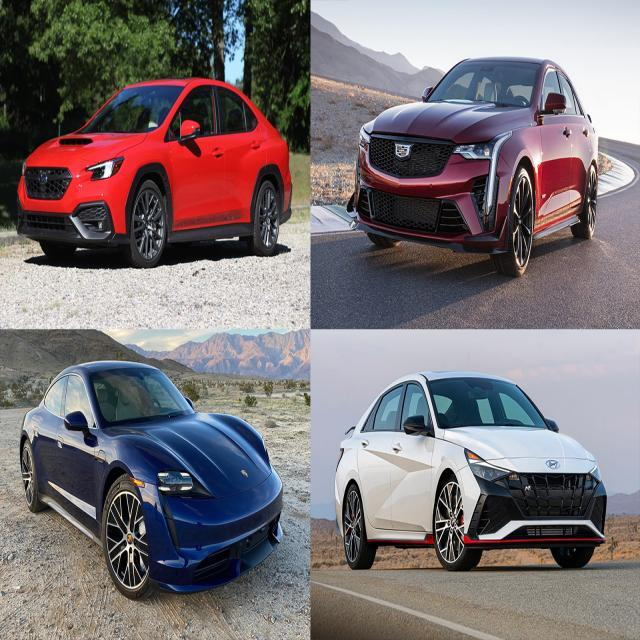pickup: (18, 358, 284, 600), (346, 54, 600, 277), (334, 369, 606, 571), (16, 75, 292, 268)
